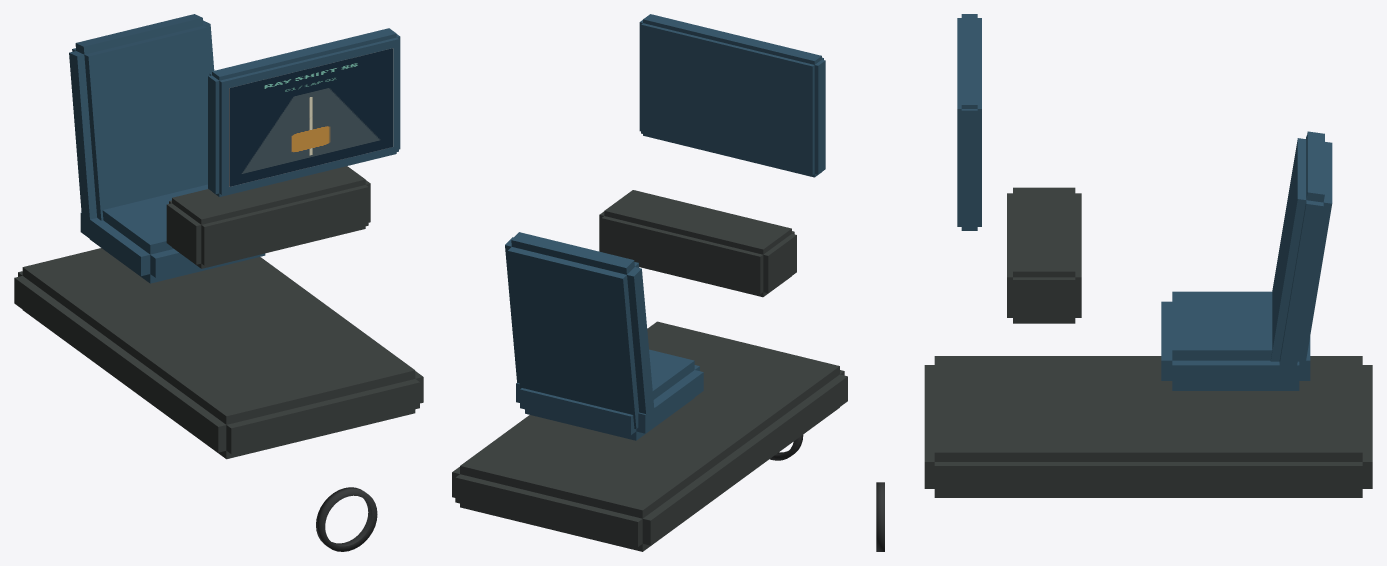
Rendered from fixture_v23_racing_cabinet.glb.
3 renders of one model, left to right at view 1: azimuth 30°, elevation 25°; view 2: azimuth 150°, elevation 25°; view 3: azimuth 270°, elevation 25°, orthographic. The views are drawn at different scales.
Parts seen in each view (by area): view 1: fixture_v23_racing_cabinet_V23_ceramic_graphite, fixture_v23_racing_cabinet_V23_technical_ink, fixture_v23_racing_cabinet_V23_original_editorial, fixture_v23_racing_cabinet_V23_shoe_rubber; view 2: fixture_v23_racing_cabinet_V23_ceramic_graphite, fixture_v23_racing_cabinet_V23_technical_ink; view 3: fixture_v23_racing_cabinet_V23_ceramic_graphite, fixture_v23_racing_cabinet_V23_technical_ink, fixture_v23_racing_cabinet_V23_shoe_rubber.
Part boxes in pixels (box(x1,y1,x2,y2)): fixture_v23_racing_cabinet_V23_ceramic_graphite: box(14, 166, 423, 459); fixture_v23_racing_cabinet_V23_technical_ink: box(69, 14, 400, 283); fixture_v23_racing_cabinet_V23_original_editorial: box(229, 48, 393, 186); fixture_v23_racing_cabinet_V23_shoe_rubber: box(316, 487, 377, 551); fixture_v23_racing_cabinet_V23_ceramic_graphite: box(452, 190, 847, 551); fixture_v23_racing_cabinet_V23_technical_ink: box(505, 14, 825, 440); fixture_v23_racing_cabinet_V23_ceramic_graphite: box(924, 187, 1372, 497); fixture_v23_racing_cabinet_V23_technical_ink: box(957, 14, 1332, 390); fixture_v23_racing_cabinet_V23_shoe_rubber: box(876, 482, 884, 551).
Bounding box in the file's own units: 1 × 2.17 × 1.99.
4 materials, 1 textured.
